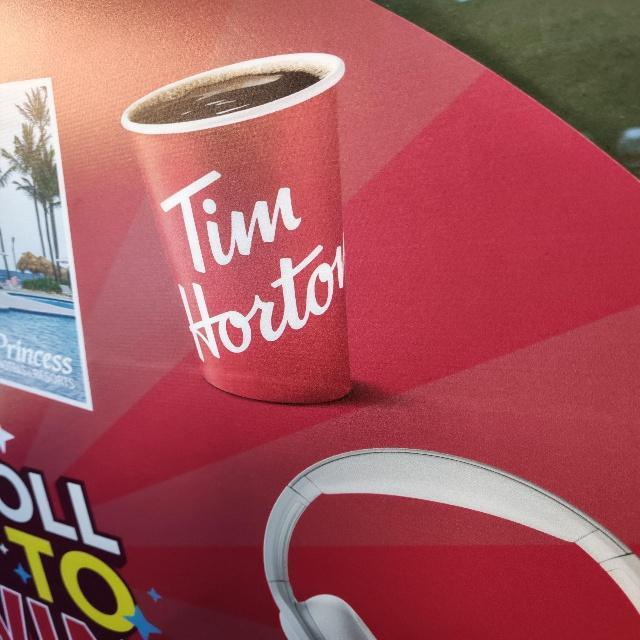timmies: (117, 50, 360, 409)
